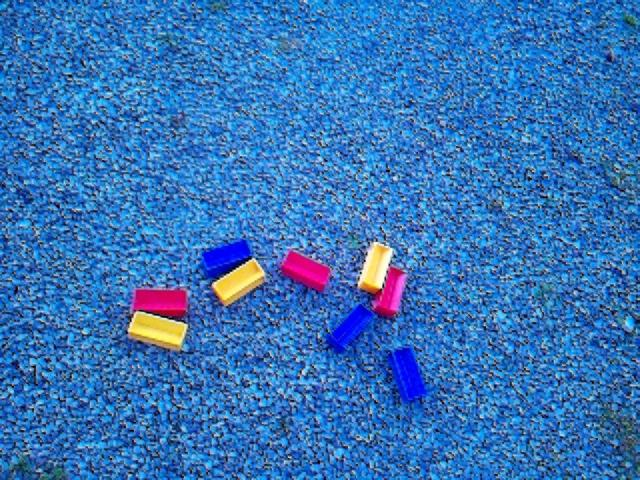blue: (328, 306, 375, 355), (389, 347, 428, 404), (202, 240, 253, 279)
red: (283, 251, 333, 294), (373, 268, 409, 320), (133, 290, 188, 320)
yellow: (127, 310, 190, 353), (212, 258, 267, 307), (358, 242, 396, 296)
